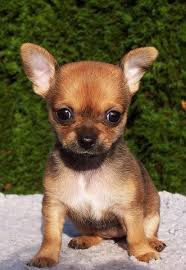chihuahua: (10, 26, 174, 270)
